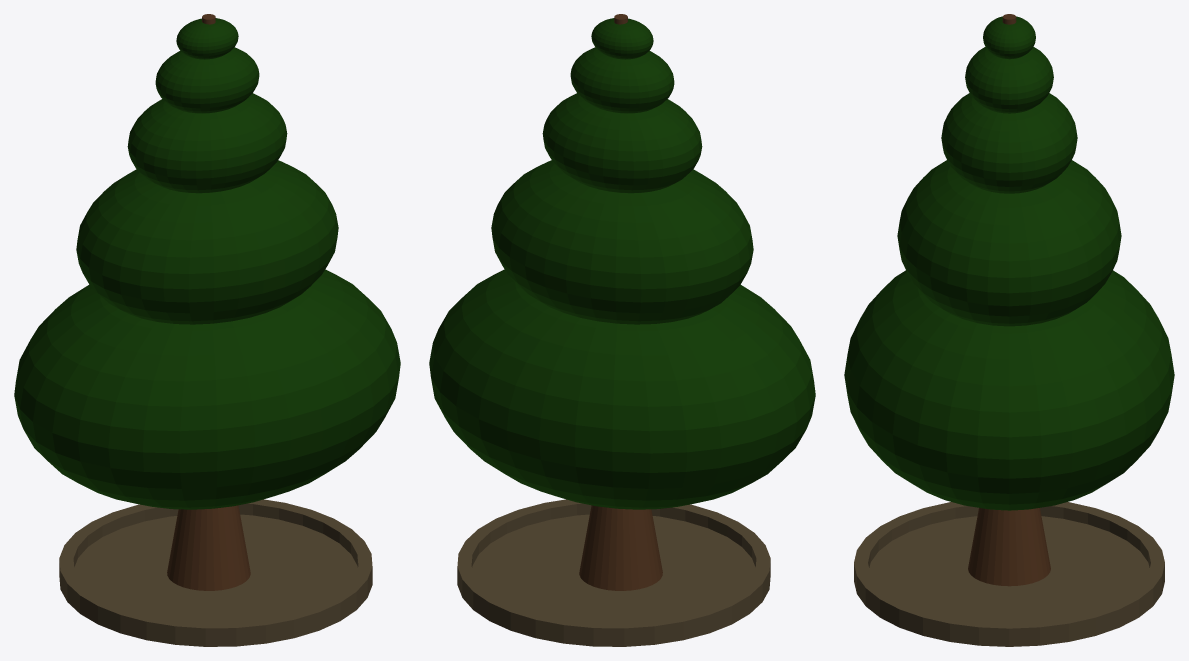
The model's file is arbol 4.fbx.
3 views of the same model, side by side, from view 1: azimuth 30°, elevation 25°; view 2: azimuth 150°, elevation 25°; view 3: azimuth 270°, elevation 25° (orthographic).
Visible parts, largest first — view 1: Sphere.011; view 2: Sphere.011; view 3: Sphere.011.
Boxes of the visible parts, x1,y1,x2,y2 form: Sphere.011: (14,14,400,646); Sphere.011: (429,14,815,646); Sphere.011: (844,14,1174,646).
Bounding box in the file's own units: 257 × 398 × 212.
